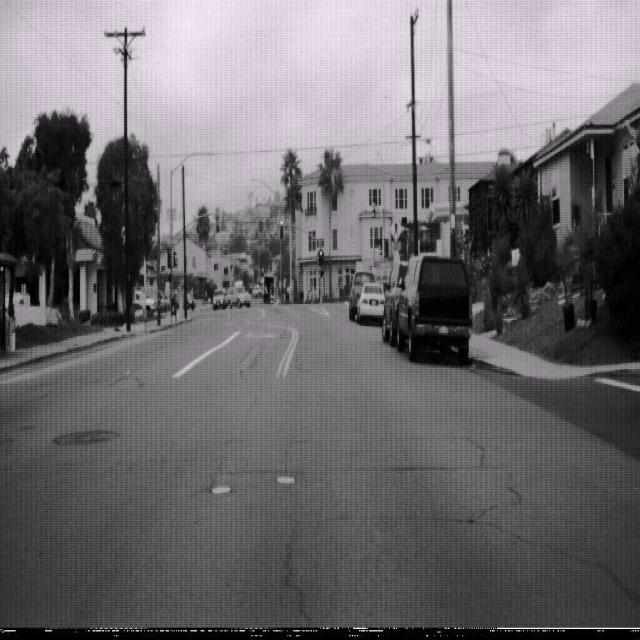pedestrianCrossing: (388, 213, 404, 243)
